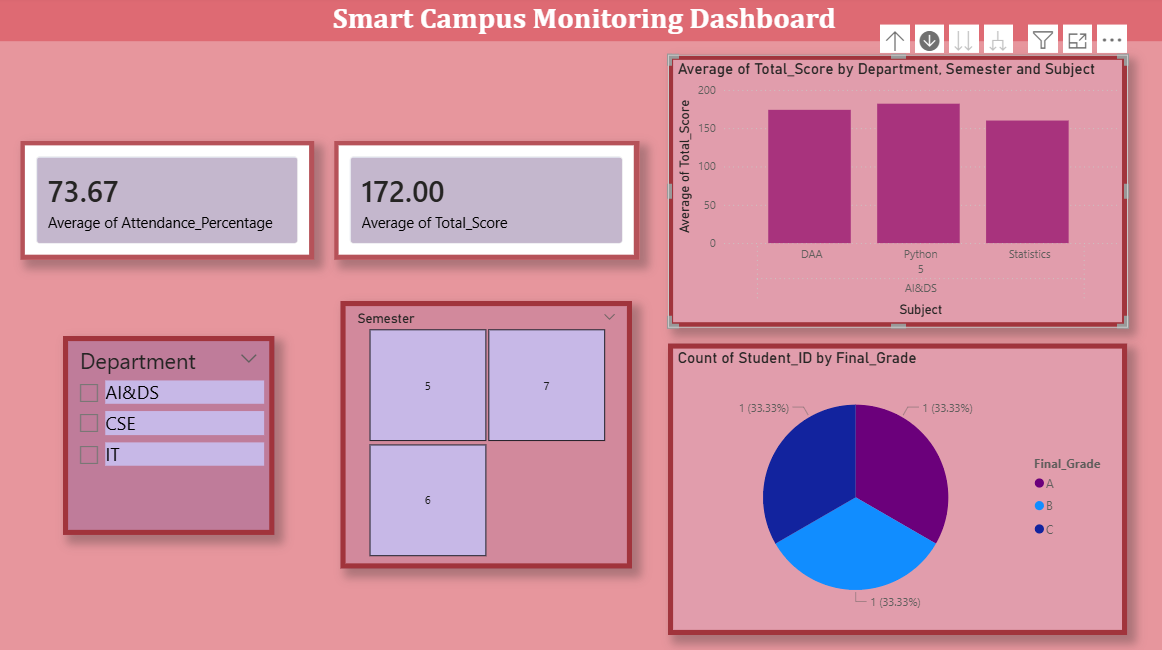

This screenshot's page, from the dashboard's own definition file:
{"tool":"powerbi","page":{"name":"Page 1","canvas":[1280,720],"ordinal":0},"visuals":[{"type":"textbox","box":[0,0,1280.3,49.4],"z":0},{"type":"cardVisual","fields":{"Data":["Avg(5 student_performance.Attendance_Percentage)"]},"box":[24.7,159.2,322.5,130.4],"z":1000},{"type":"cardVisual","fields":{"Data":["Avg(5 student_performance.Total_Score)"]},"box":[369.1,159.2,334.8,130.4],"z":2000},{"type":"slicer","fields":{"Values":["5 student_performance.Department"]},"box":[71.7,373.3,231.7,218.3],"z":3000},{"type":"slicer","fields":{"Values":["5 student_performance.Semester"]},"box":[376.7,335,320,293.3],"z":4000},{"type":"clusteredColumnChart","fields":{"Y":["Avg(5 student_performance.Total_Score)"],"Category":["5 student_performance.Department","5 student_performance.Semester","5 student_performance.Subject"]},"box":[735.9,63.9,504.3,299.2],"z":5000},{"type":"pieChart","fields":{"Category":["5 student_performance.Final_Grade"],"Y":["CountNonNull(5 student_performance.Student_ID)"]},"box":[735.9,381.2,504.3,319.7],"z":6000}]}

Visuals, with their boxes in screenshot pixels (x1, y1, x2, y2), scaled from the page's 1280x720 canvas onto the 1162x650 screenshot:
textbox: detection(0, 0, 1161, 45)
cardVisual - Avg(5 student_performance.Attendance_Percentage): detection(22, 144, 315, 261)
cardVisual - Avg(5 student_performance.Total_Score): detection(335, 144, 639, 261)
slicer - 5 student_performance.Department: detection(65, 337, 275, 534)
slicer - 5 student_performance.Semester: detection(342, 302, 632, 567)
clusteredColumnChart - Avg(5 student_performance.Total_Score) x 5 student_performance.Department: detection(668, 58, 1126, 328)
pieChart - 5 student_performance.Final_Grade x CountNonNull(5 student_performance.Student_ID): detection(668, 344, 1126, 633)
